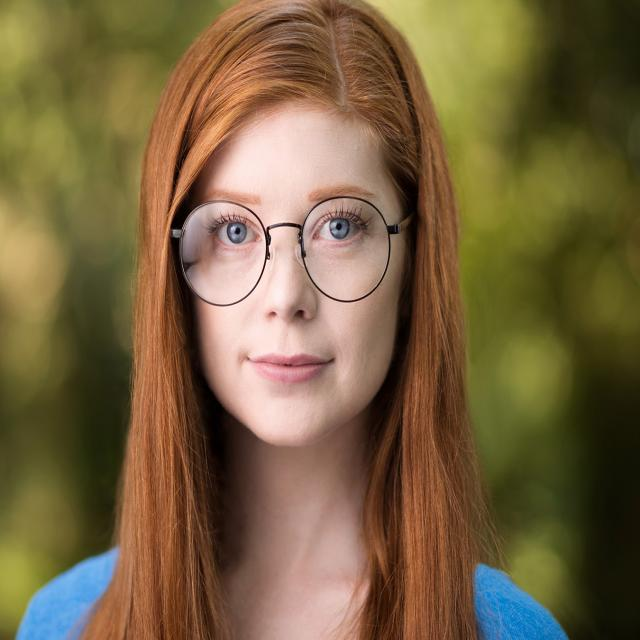nothing: (116, 0, 468, 241)
